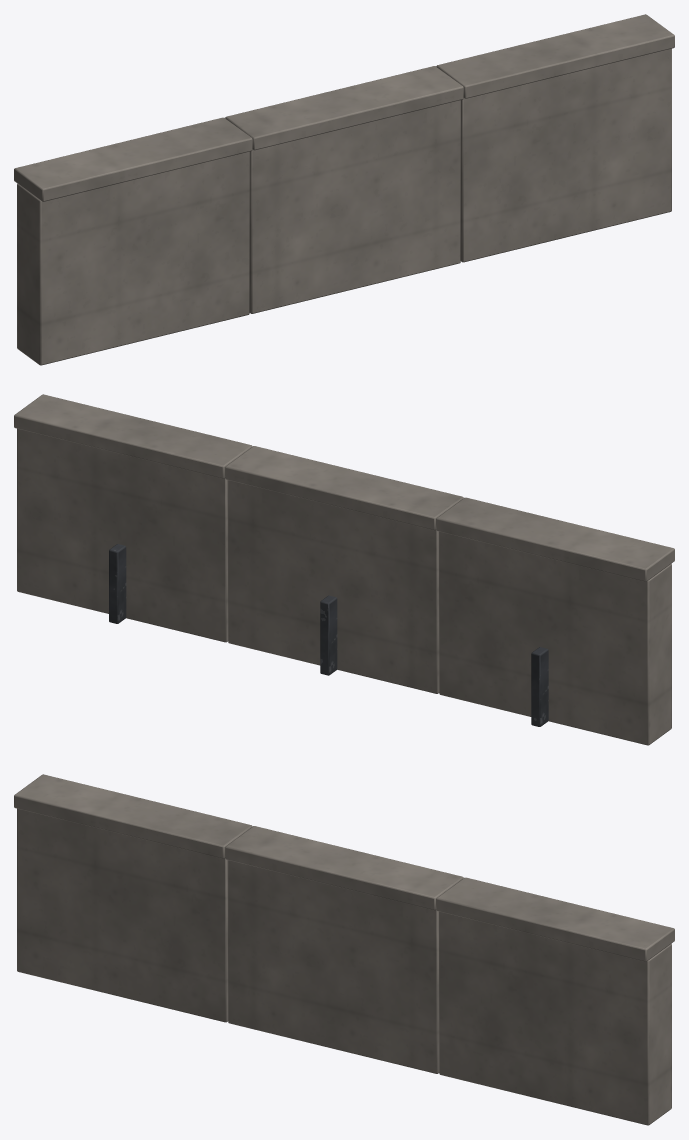
Rendered from BLD_Roof_Parapet_4m.glb.
The picture shows the model from 3 angles, top to bottom: view 1: azimuth 30°, elevation 25°; view 2: azimuth 150°, elevation 25°; view 3: azimuth 330°, elevation 25°; orthographic projection.
Visible parts, largest first — view 1: BLD_Roof_Parapet_4m; view 2: BLD_Roof_Parapet_4m; view 3: BLD_Roof_Parapet_4m.
Boxes of the visible parts, bbox=[...] form: BLD_Roof_Parapet_4m: bbox=[14, 14, 674, 365]; BLD_Roof_Parapet_4m: bbox=[14, 394, 674, 745]; BLD_Roof_Parapet_4m: bbox=[14, 774, 674, 1125].
Bounding box in the file's own units: 4 × 1.08 × 0.38.
Materials: 2 (2 with a texture image).
